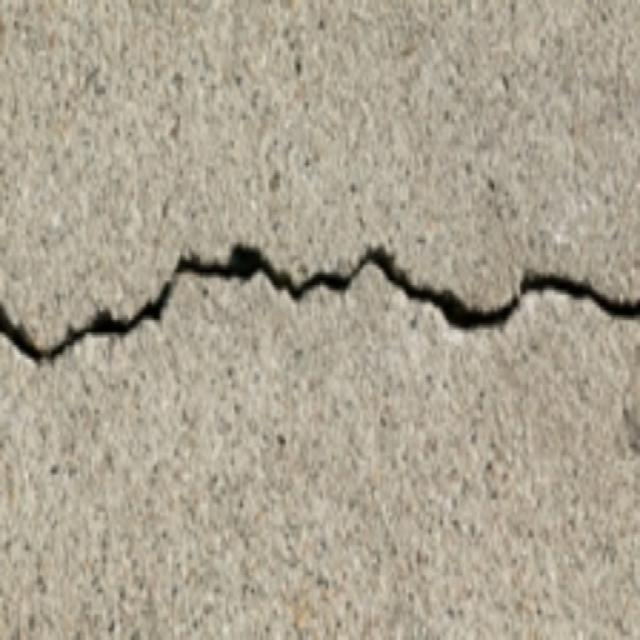Transverse: (0, 190, 640, 380)
